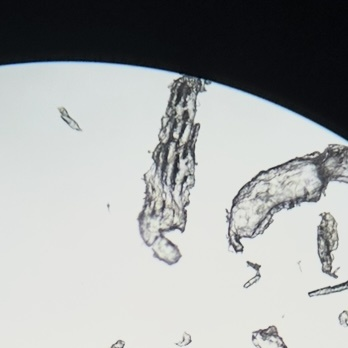microplastic: (138, 74, 211, 265), (226, 144, 348, 254), (317, 212, 339, 279), (252, 326, 287, 348), (308, 281, 348, 297), (58, 107, 82, 132), (244, 261, 261, 288), (175, 333, 192, 346), (338, 311, 348, 325), (110, 340, 125, 348)
